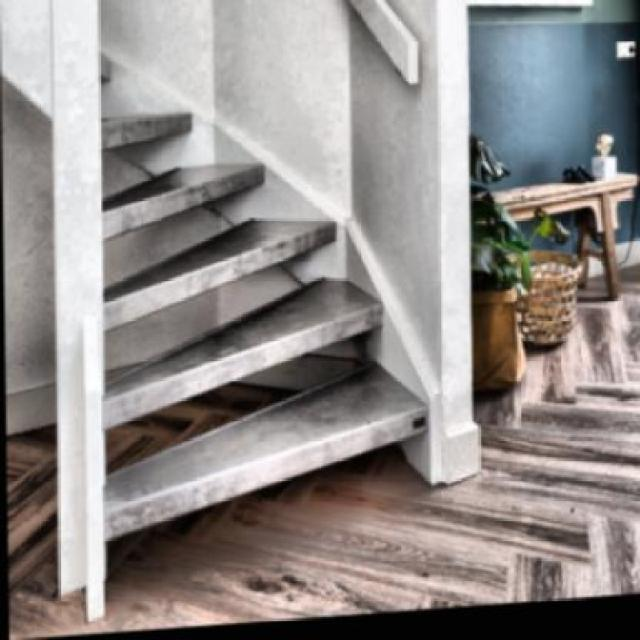stair: (12, 76, 432, 462)
